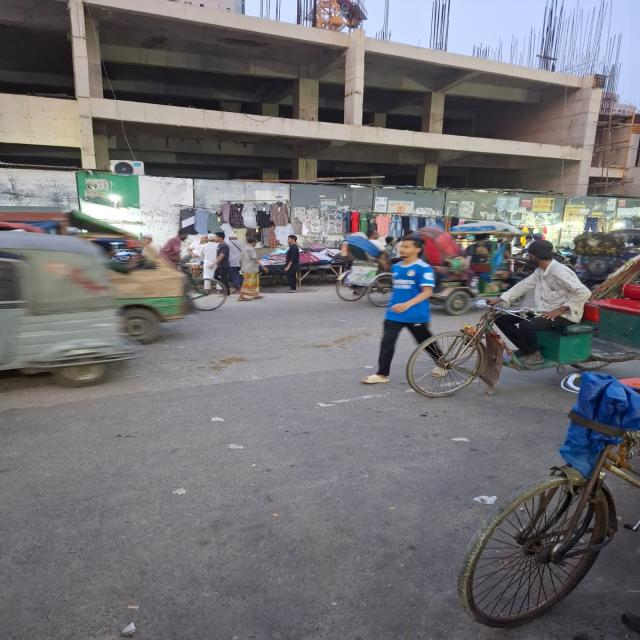person: (362, 236, 444, 384)
